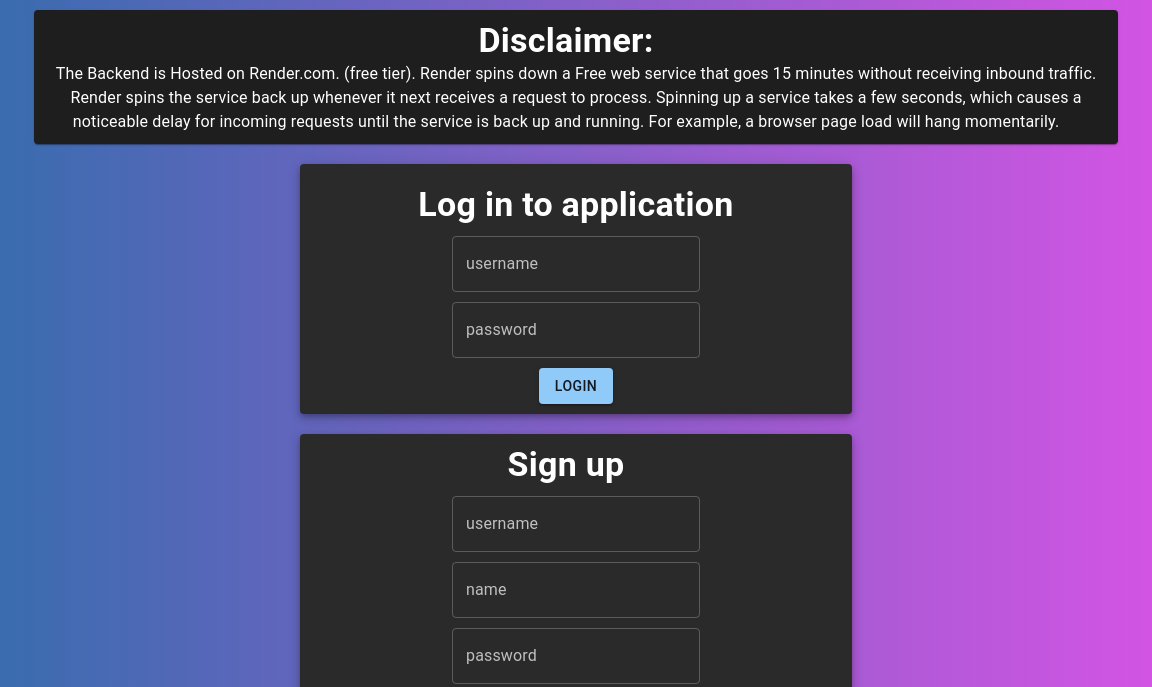
Test: Blog app › Login › fails with wrong credentials
The width and height of the screenshot is (1152, 687).
Type "mluukkai" into the field with id "username-input". click: (576, 264)
box: 452,236 -> 700,292
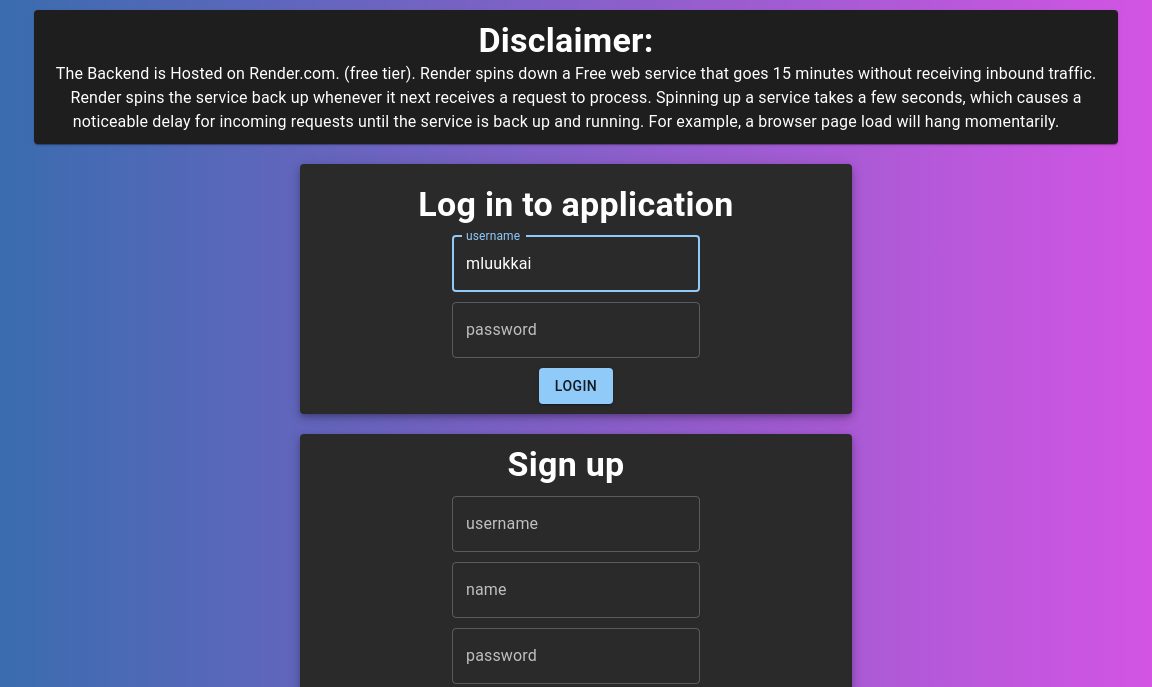
Type "wrong" into the password field labelled "password" below "Log in to application". click: (576, 330)
box: 452,302 -> 700,358
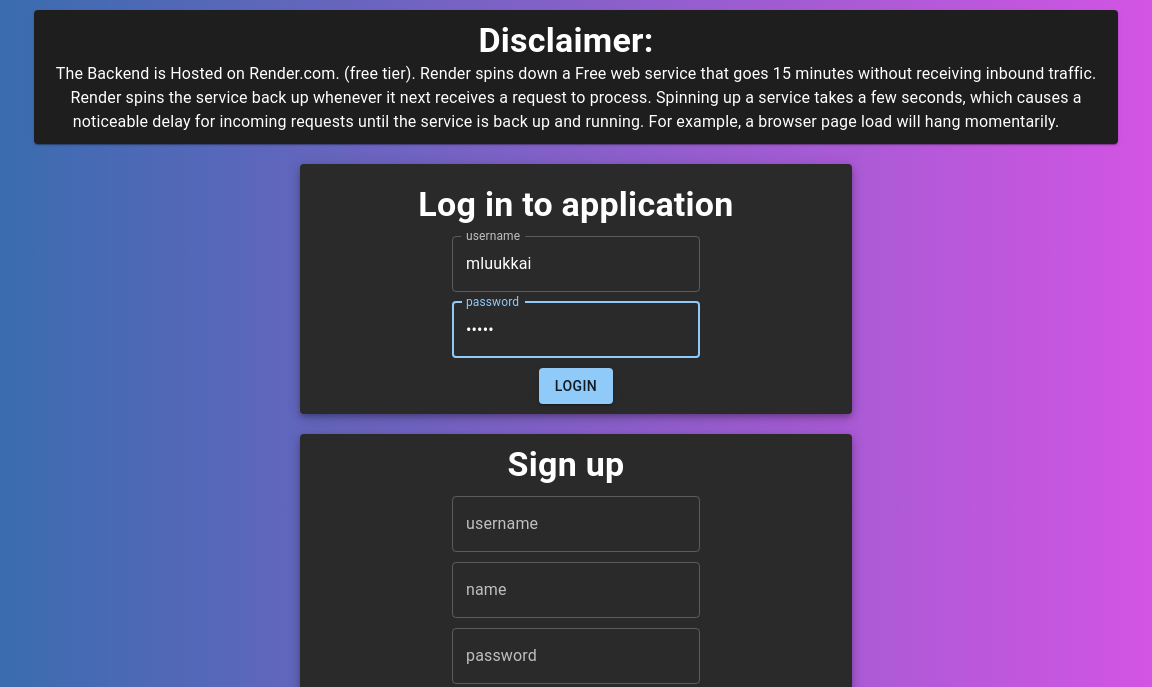
Click the button with id "login-button". click: (576, 387)
box: 539,368 -> 613,405
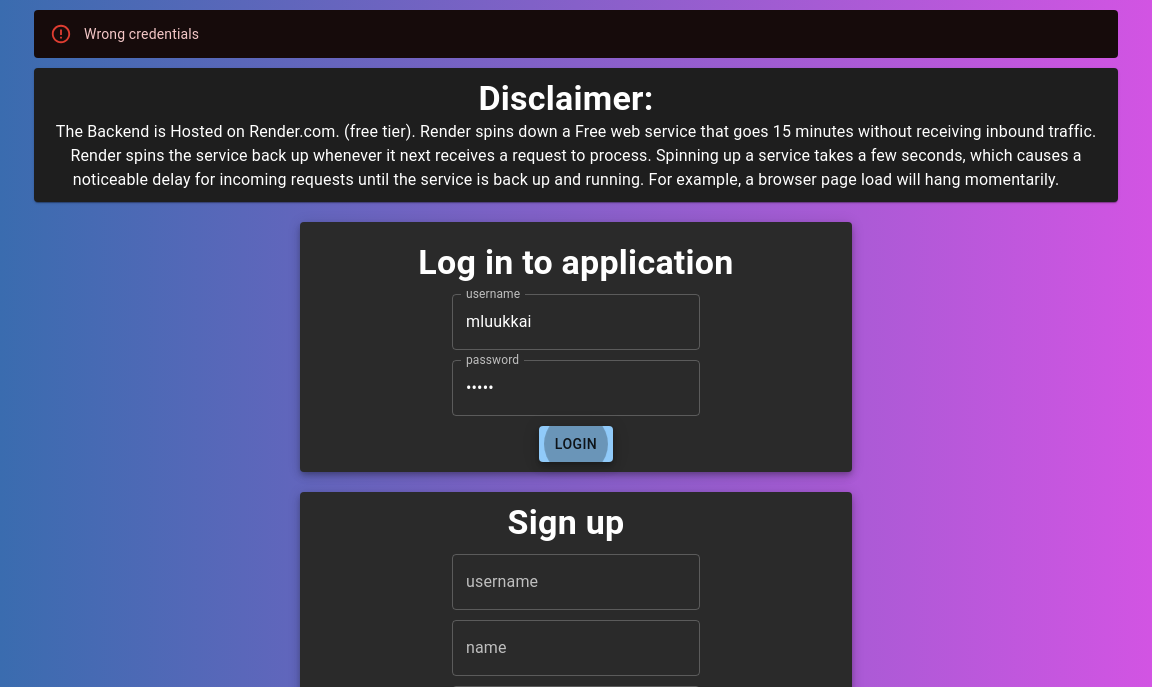
Check: the text with id "notification" reads "Wrong credentials", box 84,26 -> 199,42
